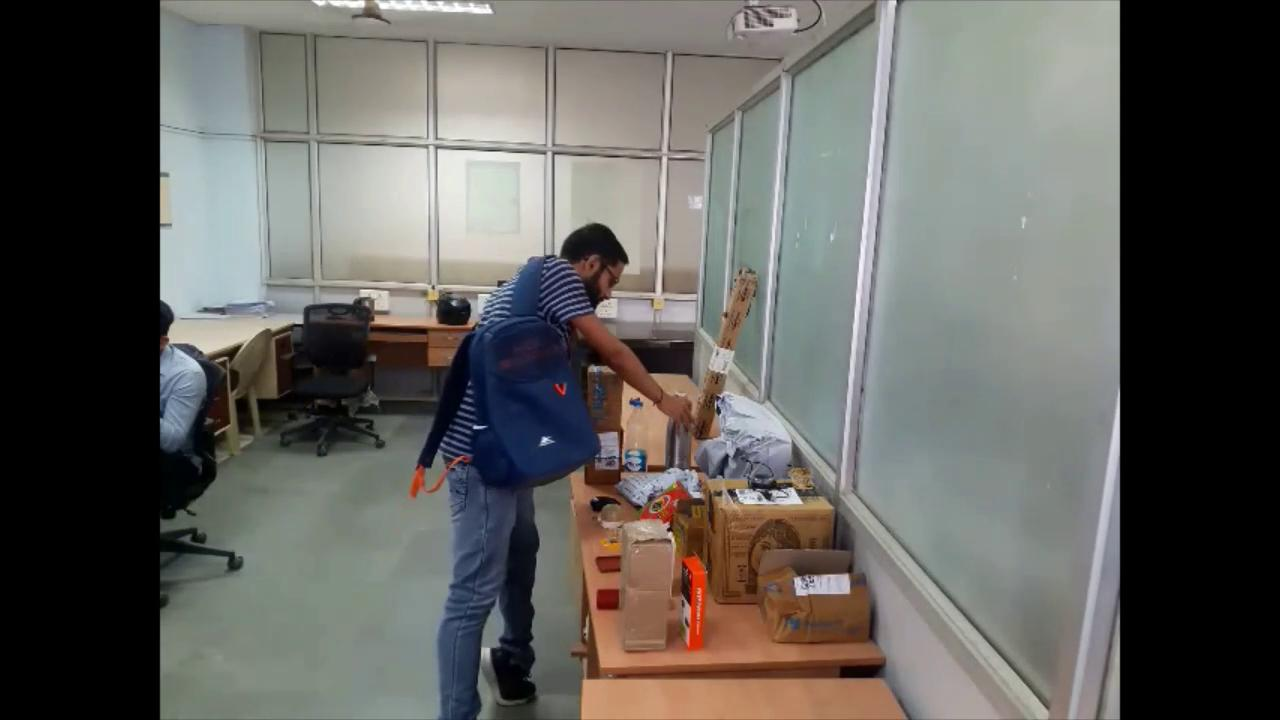Normal: (416, 166, 638, 720)
